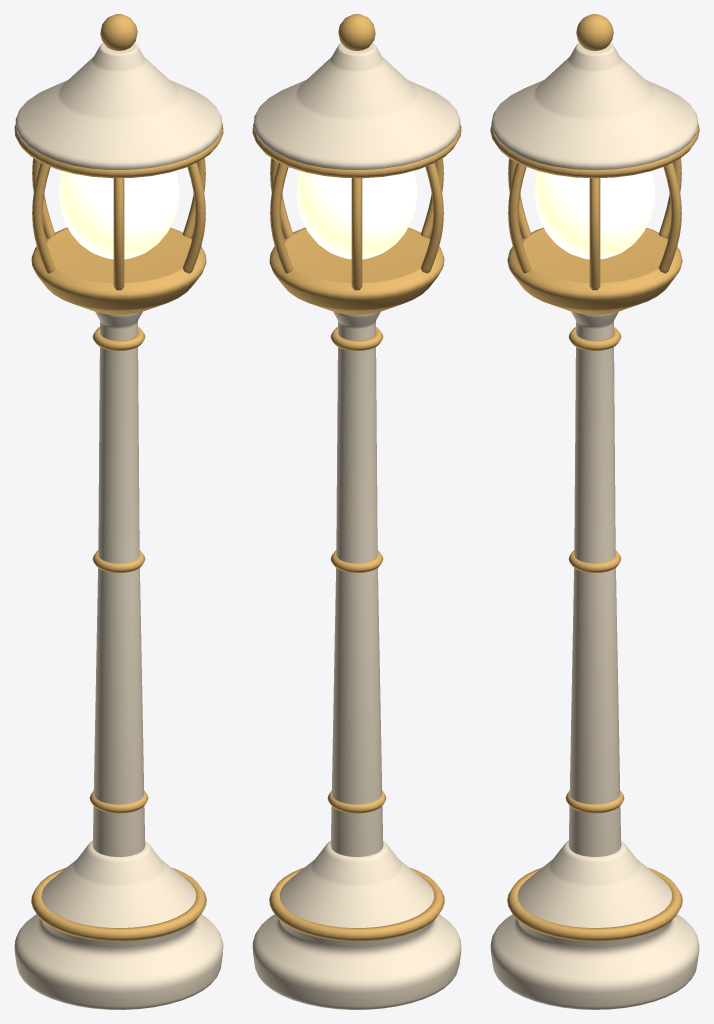
The model's file is lantern-post.glb.
3 views of the same model, side by side, from view 1: azimuth 30°, elevation 25°; view 2: azimuth 150°, elevation 25°; view 3: azimuth 270°, elevation 25° (orthographic).
Parts seen in each view (by area): view 1: LanternPost; view 2: LanternPost; view 3: LanternPost.
Part boxes in pixels (bbox=[...]): LanternPost: bbox=[14, 14, 223, 1009]; LanternPost: bbox=[252, 14, 461, 1009]; LanternPost: bbox=[490, 14, 699, 1009].
Size of the model in its own units: 0.556 by 2.79 by 0.556.
